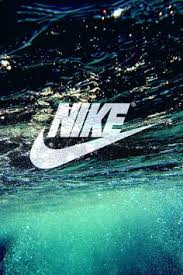nike: (24, 115, 163, 180)
